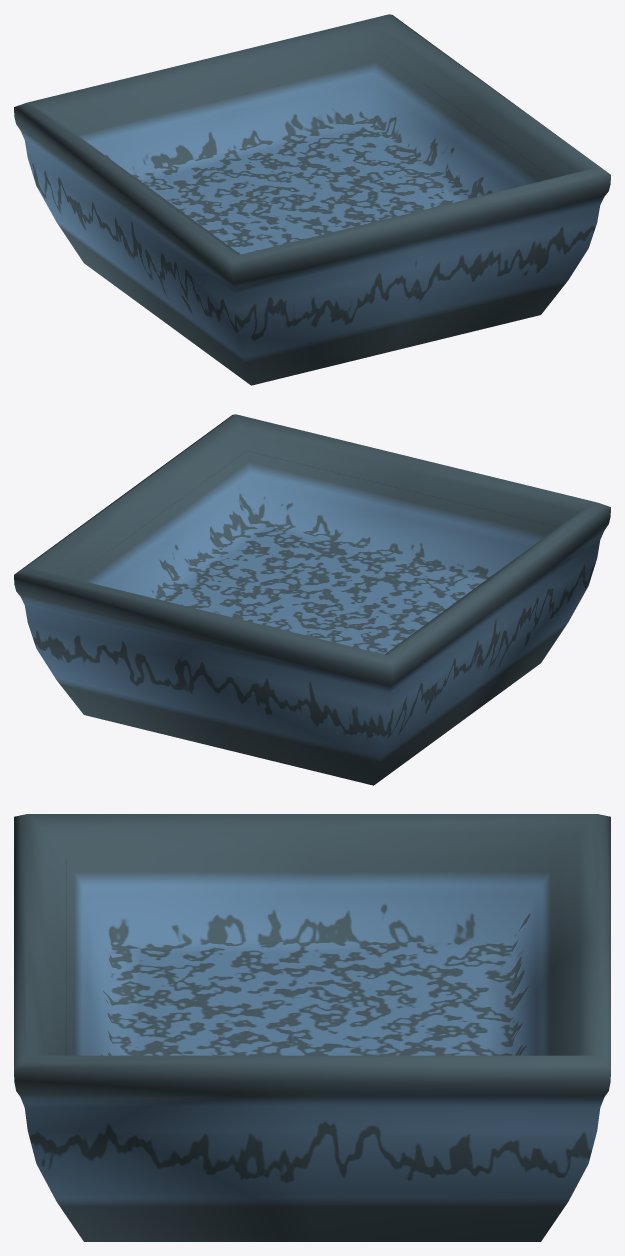
File: BigPlanter.fbx
3 renders of one model, top to bottom at view 1: azimuth 30°, elevation 25°; view 2: azimuth 150°, elevation 25°; view 3: azimuth 270°, elevation 25°, orthographic. The views are drawn at different scales.
Parts seen in each view (by area): view 1: Planter.003; view 2: Planter.003; view 3: Planter.003.
Part boxes in pixels (x1,y1,x2,y2): Planter.003: (14, 14, 610, 385); Planter.003: (14, 414, 610, 785); Planter.003: (14, 814, 610, 1241).
Size of the model in its own units: 864 by 336 by 864.
Materials: 1 (1 with a texture image).
